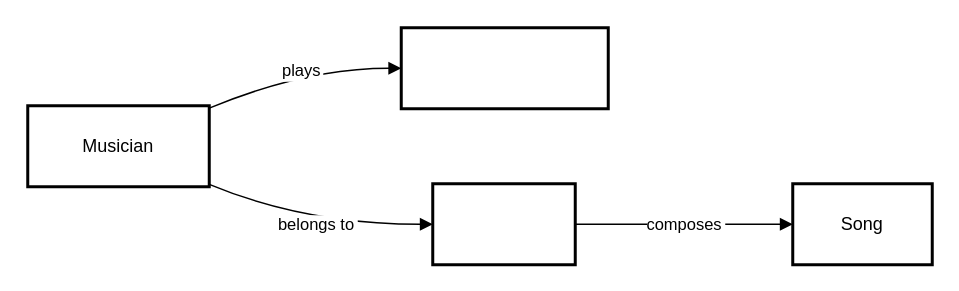
This 959x291 diagram has some shape labels left out. The shapes that lost their labels are listed below. From the top down, each one's box as (x1, y1, x2, y2) in pixels, then its label:
(399, 26, 609, 110): Instrument
(430, 182, 576, 266): Band
